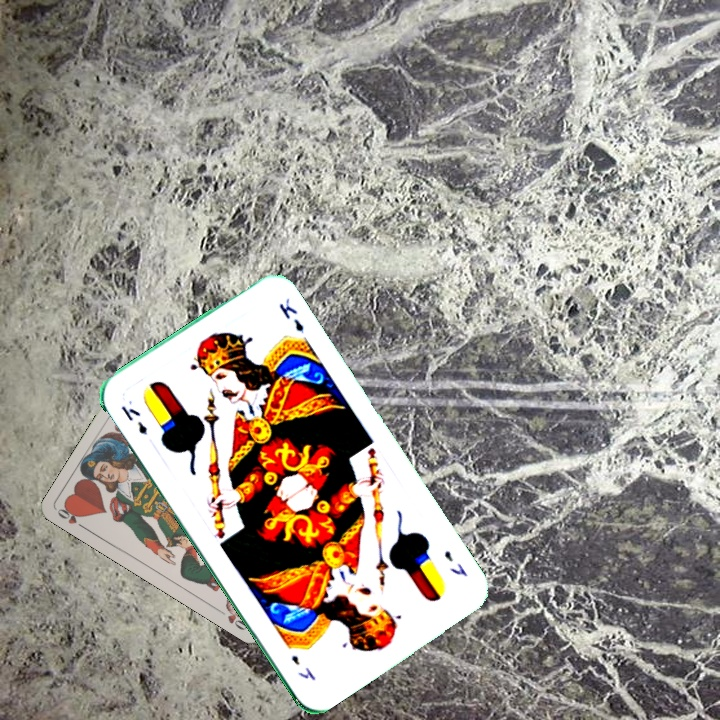EK: (117, 402, 150, 438), (440, 546, 470, 579)
HO: (53, 502, 90, 533)
